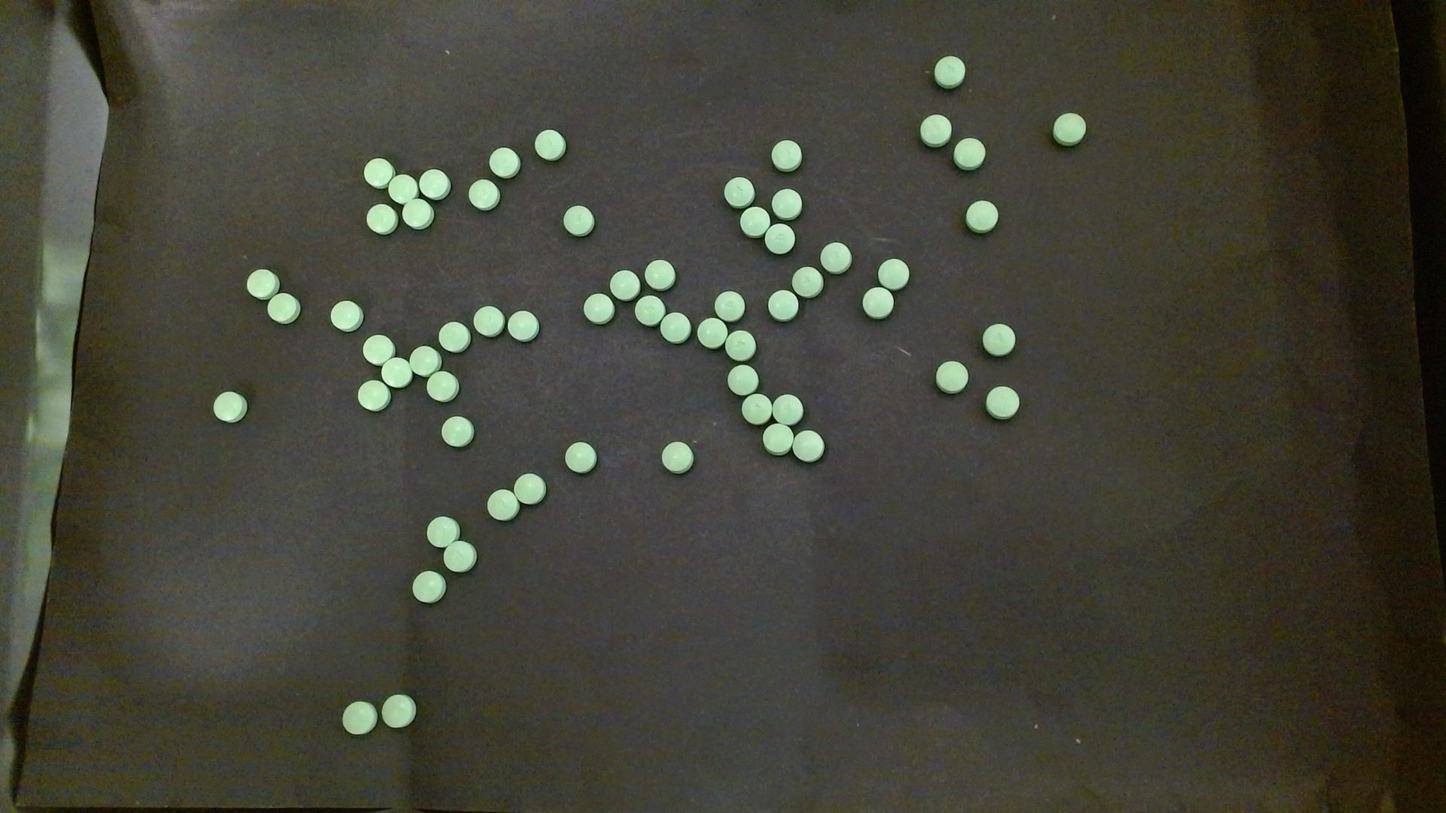Circle: (341, 700, 377, 735), (381, 693, 415, 729), (212, 390, 248, 424), (1050, 111, 1085, 145), (412, 570, 445, 604), (985, 386, 1019, 419), (935, 360, 968, 394), (357, 379, 390, 412), (443, 540, 475, 573), (920, 114, 952, 147), (661, 441, 694, 473), (965, 200, 997, 233), (982, 323, 1015, 355), (792, 430, 824, 462), (426, 371, 458, 403), (267, 292, 299, 324), (330, 300, 362, 332), (770, 139, 801, 172), (426, 516, 459, 547), (441, 416, 474, 447), (365, 203, 398, 234), (934, 55, 965, 88), (953, 138, 985, 169), (514, 472, 545, 504), (468, 178, 499, 210), (507, 310, 538, 342), (762, 423, 793, 455), (246, 268, 278, 299), (401, 198, 433, 229), (362, 334, 394, 365), (878, 258, 909, 290), (644, 259, 676, 290), (742, 393, 773, 425), (473, 305, 504, 336), (489, 146, 520, 177), (438, 321, 469, 352), (534, 129, 565, 160), (820, 242, 851, 273), (565, 442, 596, 473), (660, 312, 691, 343), (767, 290, 798, 321), (583, 293, 614, 324), (380, 357, 411, 388), (563, 205, 594, 236), (697, 318, 728, 349), (487, 489, 517, 521), (772, 187, 802, 219), (364, 157, 394, 188), (764, 224, 795, 254), (419, 169, 450, 199), (792, 266, 822, 297), (410, 346, 441, 376), (772, 394, 802, 425), (724, 176, 754, 207), (725, 330, 755, 361), (728, 364, 758, 395), (634, 295, 664, 326), (862, 288, 892, 318), (609, 269, 639, 299), (740, 206, 769, 237), (715, 291, 744, 321), (388, 175, 417, 204)
